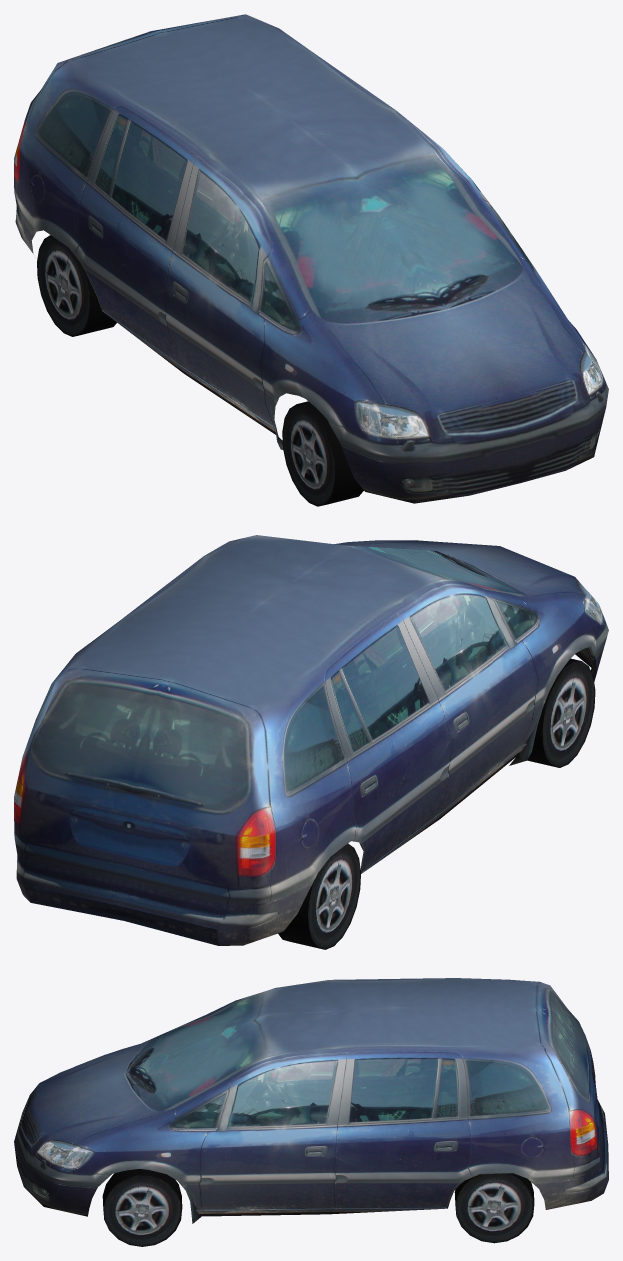
The model's file is SM_Car04.FBX.
The picture shows the model from 3 angles, top to bottom: view 1: azimuth 30°, elevation 25°; view 2: azimuth 150°, elevation 25°; view 3: azimuth 270°, elevation 25°; orthographic projection. The views are drawn at different scales.
Parts seen in each view (by area): view 1: SM_Car04; view 2: SM_Car04; view 3: SM_Car04.
Part boxes in pixels (x1=…): SM_Car04: x1=14, y1=14, x2=608, y2=506; SM_Car04: x1=14, y1=535, x2=608, y2=949; SM_Car04: x1=14, y1=978, x2=608, y2=1246.
Size of the model in its own units: 3.13 by 2.64 by 7.52.
